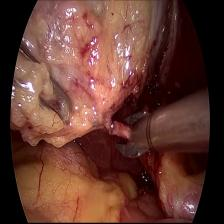Clipper: (113, 105, 158, 167)
Grasper: (24, 38, 73, 134)
